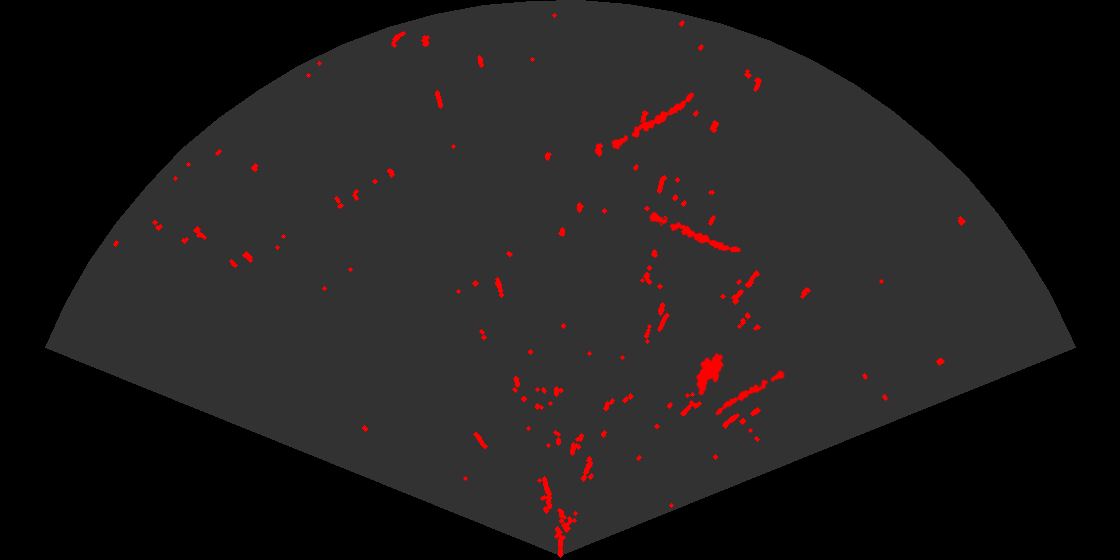AUV: (694, 351, 726, 397)
chain: (610, 91, 696, 151), (648, 210, 743, 254), (714, 367, 790, 417)
